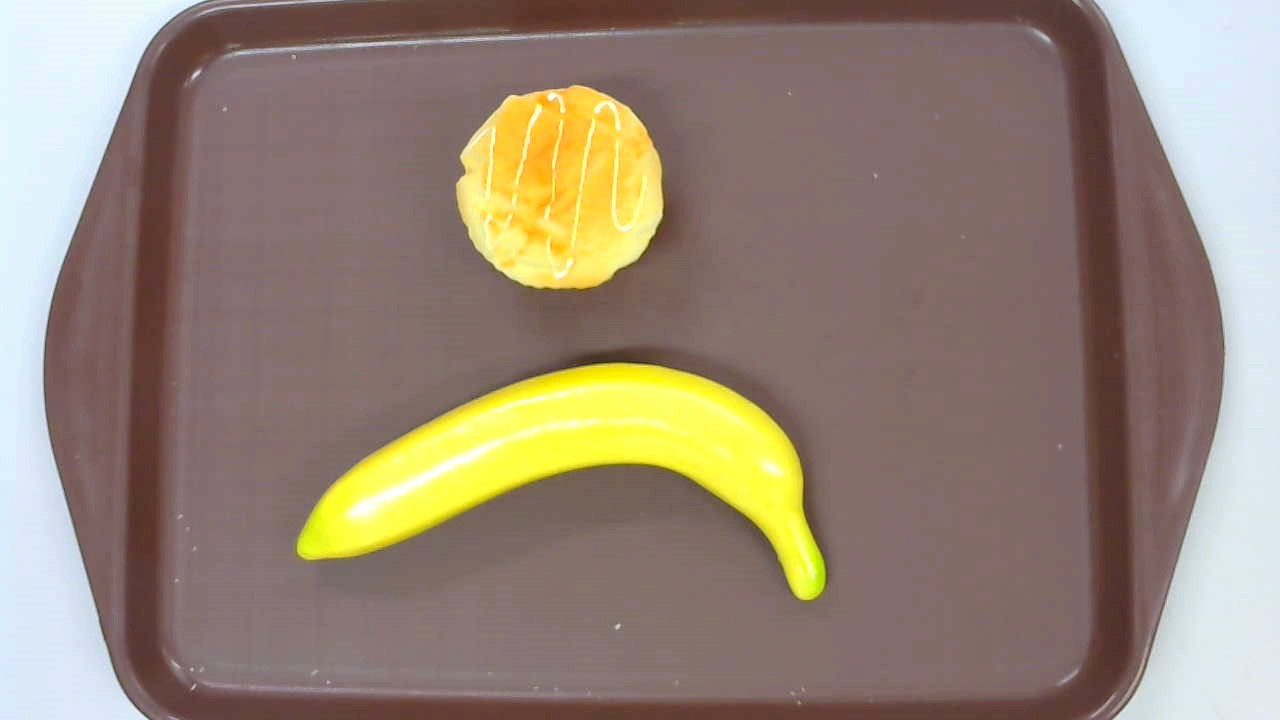banana: (296, 363, 826, 601)
cupcake: (454, 85, 665, 291)
